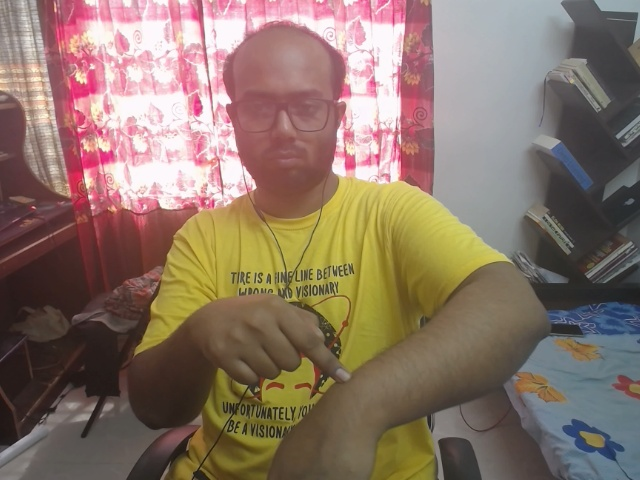time: (162, 274, 420, 480)
